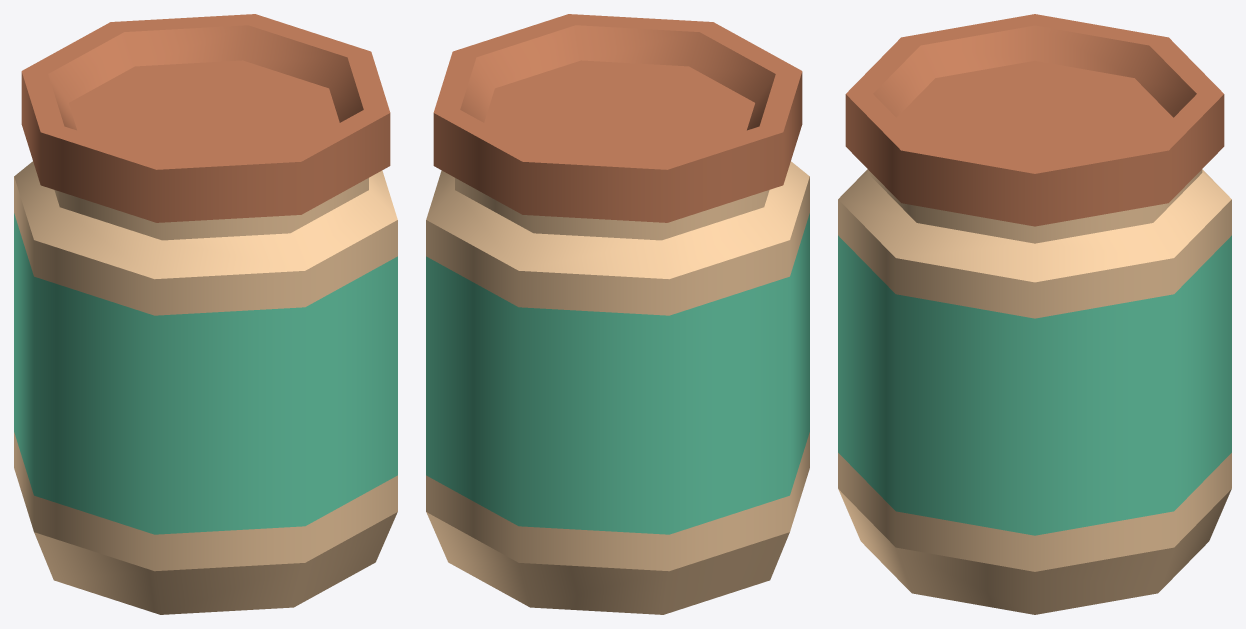
File: Peanut Butter.glb
3 renders of one model, left to right at view 1: azimuth 30°, elevation 25°; view 2: azimuth 150°, elevation 25°; view 3: azimuth 270°, elevation 25°, orthographic.
Visible parts, largest first — view 1: Peanut Butter; view 2: Peanut Butter; view 3: Peanut Butter.
Part boxes in pixels (x1=…): Peanut Butter: x1=14, y1=14, x2=397, y2=614; Peanut Butter: x1=426, y1=14, x2=809, y2=614; Peanut Butter: x1=838, y1=14, x2=1231, y2=614.
Size of the model in its own units: 0.2359 by 0.2958 by 0.2359.
